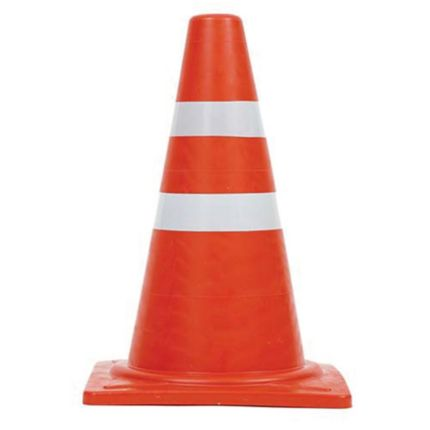cones: (76, 11, 357, 415)
